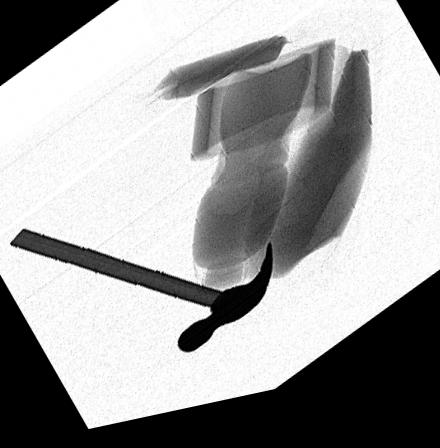Hammer: (7, 228, 273, 361)
